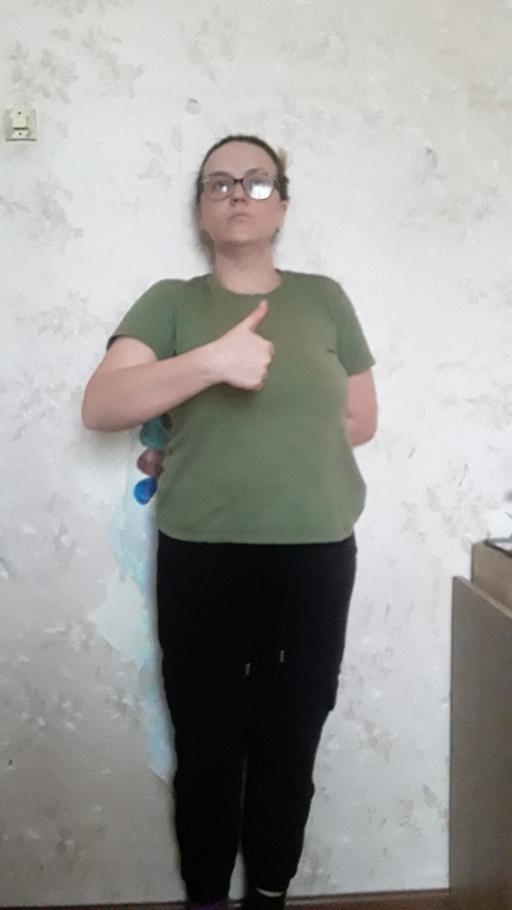like: (215, 295, 278, 394)
